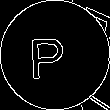P_N: (36, 29, 74, 81)
